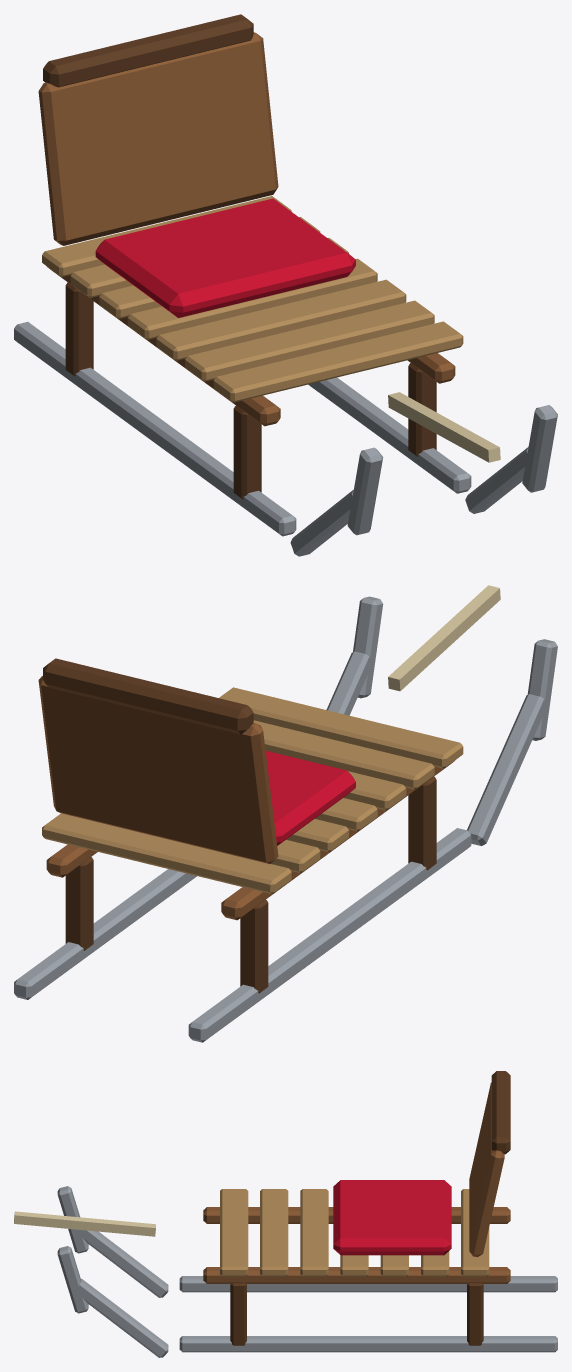
Rendered from sledge.glb.
3 renders of one model, top to bottom at view 1: azimuth 30°, elevation 25°; view 2: azimuth 150°, elevation 25°; view 3: azimuth 270°, elevation 25°, orthographic. The views are drawn at different scales.
Visible parts, largest first — view 1: sledge; view 2: sledge; view 3: sledge.
Part boxes in pixels (bbox=[...]): sledge: bbox=[14, 14, 557, 556]; sledge: bbox=[14, 585, 557, 1042]; sledge: bbox=[14, 1071, 557, 1357].
Size of the model in its own units: 0.8 by 1.04 by 2.3.
